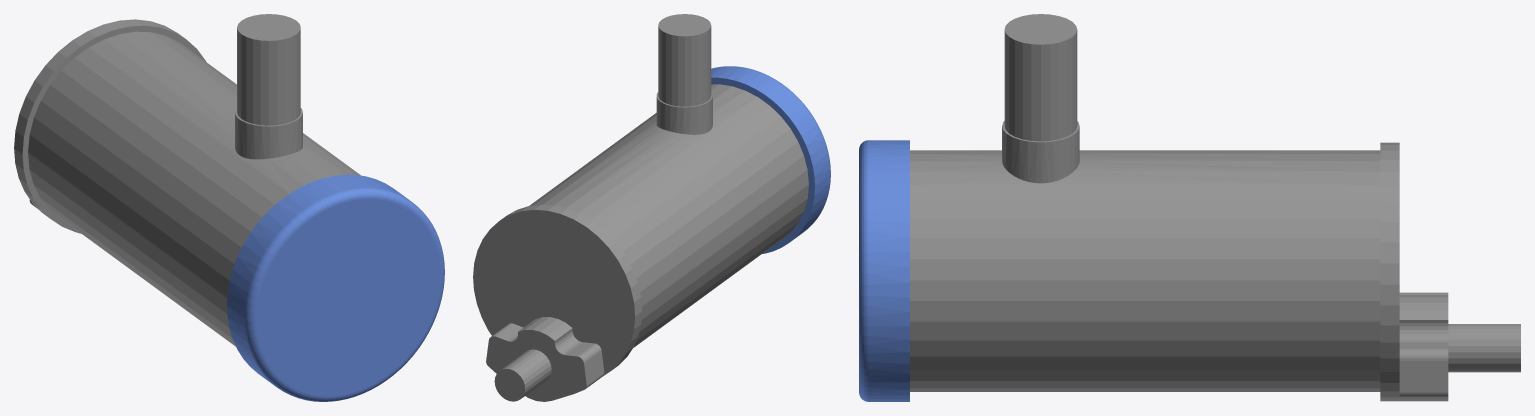
File: hub.dae
3 renders of one model, left to right at view 1: azimuth 30°, elevation 25°; view 2: azimuth 150°, elevation 25°; view 3: azimuth 270°, elevation 25°, orthographic. The views are drawn at different scales.
Visible parts, largest first — view 1: Shape_IndexedFaceSet_001, Shape_IndexedFaceSet; view 2: Shape_IndexedFaceSet_001, Shape_IndexedFaceSet; view 3: Shape_IndexedFaceSet_001, Shape_IndexedFaceSet.
Boxes of the visible parts, left/top/right/bottom form: Shape_IndexedFaceSet_001: left=14, top=14, right=360, bottom=346; Shape_IndexedFaceSet: left=227, top=174, right=444, bottom=401; Shape_IndexedFaceSet_001: left=473, top=14, right=808, bottom=401; Shape_IndexedFaceSet: left=711, top=66, right=830, bottom=253; Shape_IndexedFaceSet_001: left=910, top=14, right=1520, bottom=401; Shape_IndexedFaceSet: left=859, top=140, right=909, bottom=401.
Size of the model in its own units: 0.054 by 0.1365 by 0.0835.
